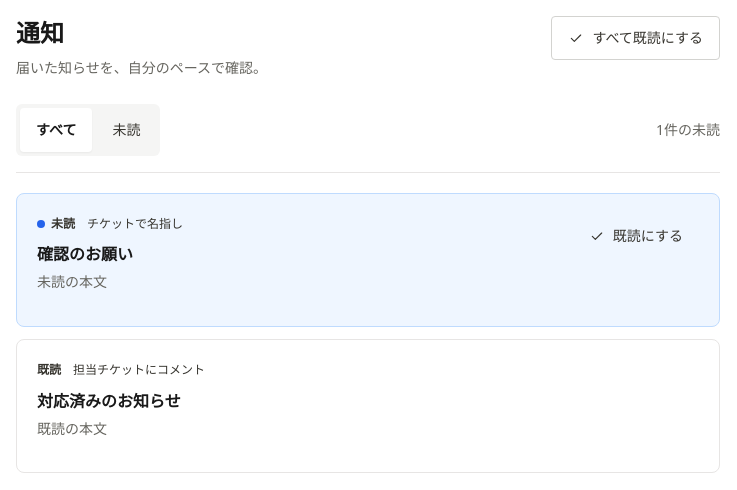
Test: NotificationPage › 未読だけに切り替え、読み終わった通知もすべてから確認できる
Click the button "未読": (126, 130) [96,108,156,152]
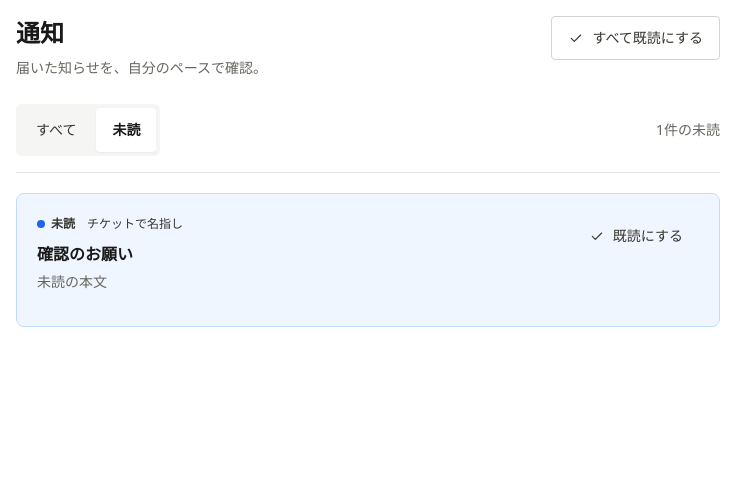
expect the text "未読の本文" is shown: met, box [37,272,107,291]
expect the text "既読の本文" is gone: met
Click the button "すべて": (56, 130) [20,108,92,152]
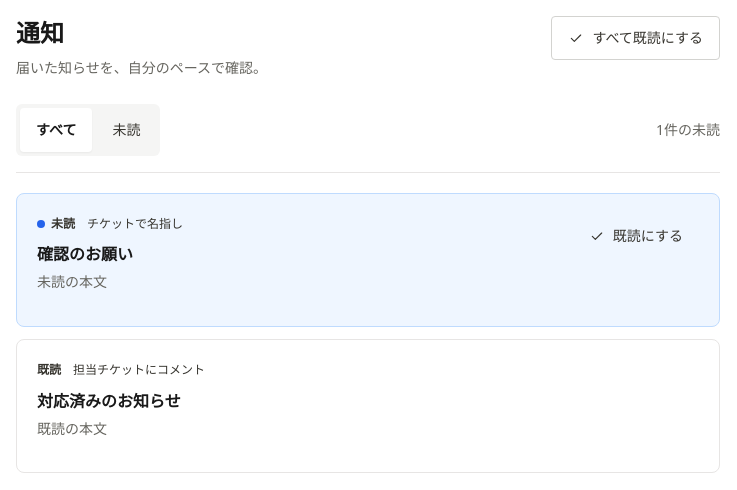
expect the text "既読の本文" is shown: met, box [37,418,107,438]
